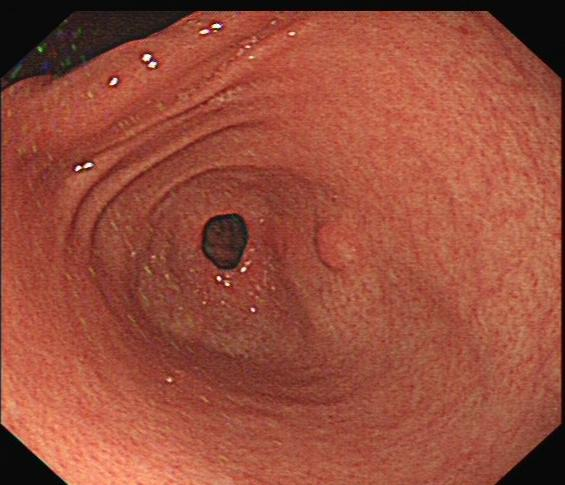Polyp: (310, 217, 364, 276)
